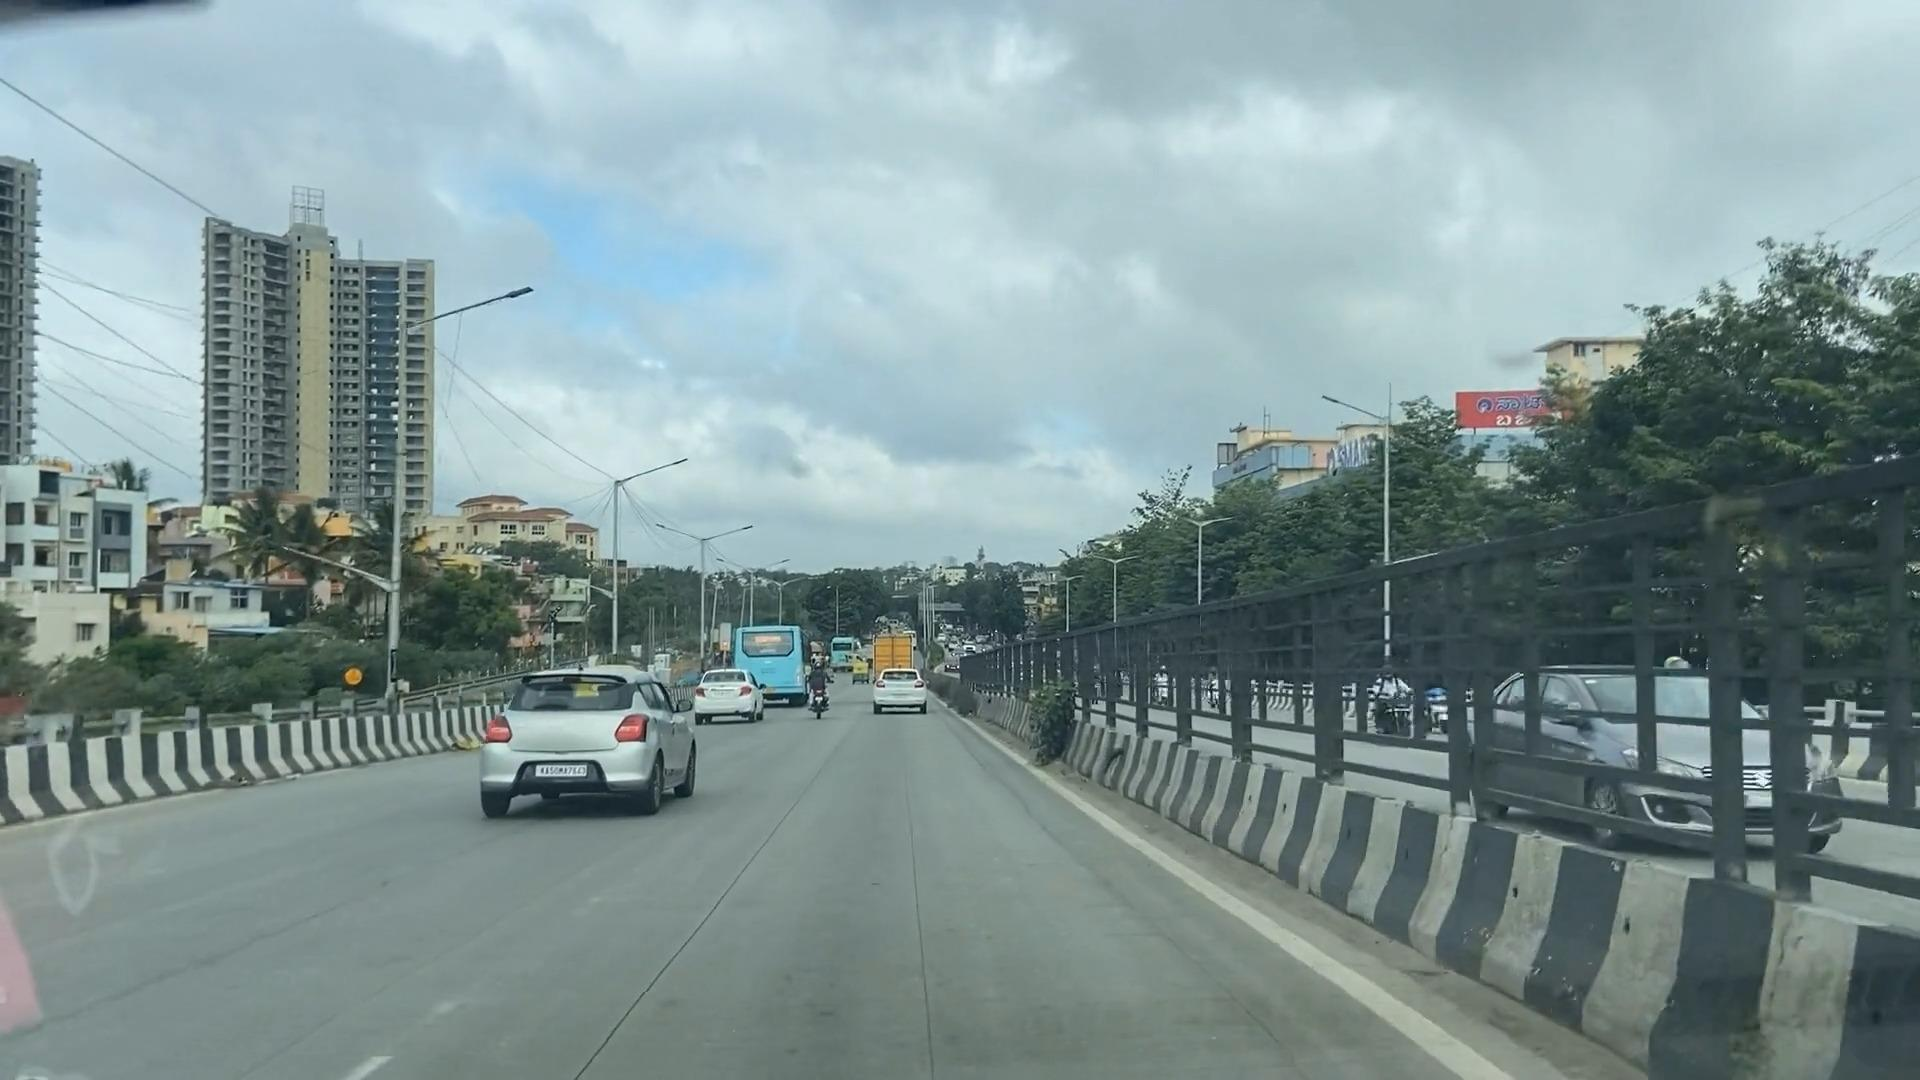HMV: (735, 595, 827, 724)
LMV: (475, 647, 707, 837), (795, 622, 858, 746), (843, 642, 927, 724), (680, 649, 769, 727)
